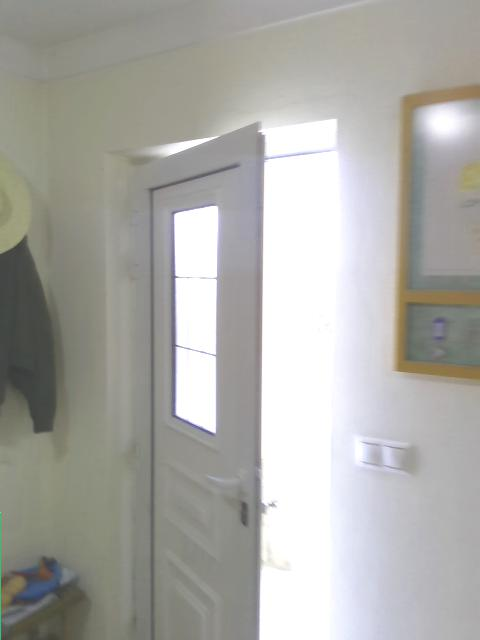semi_door: (125, 118, 338, 639)
